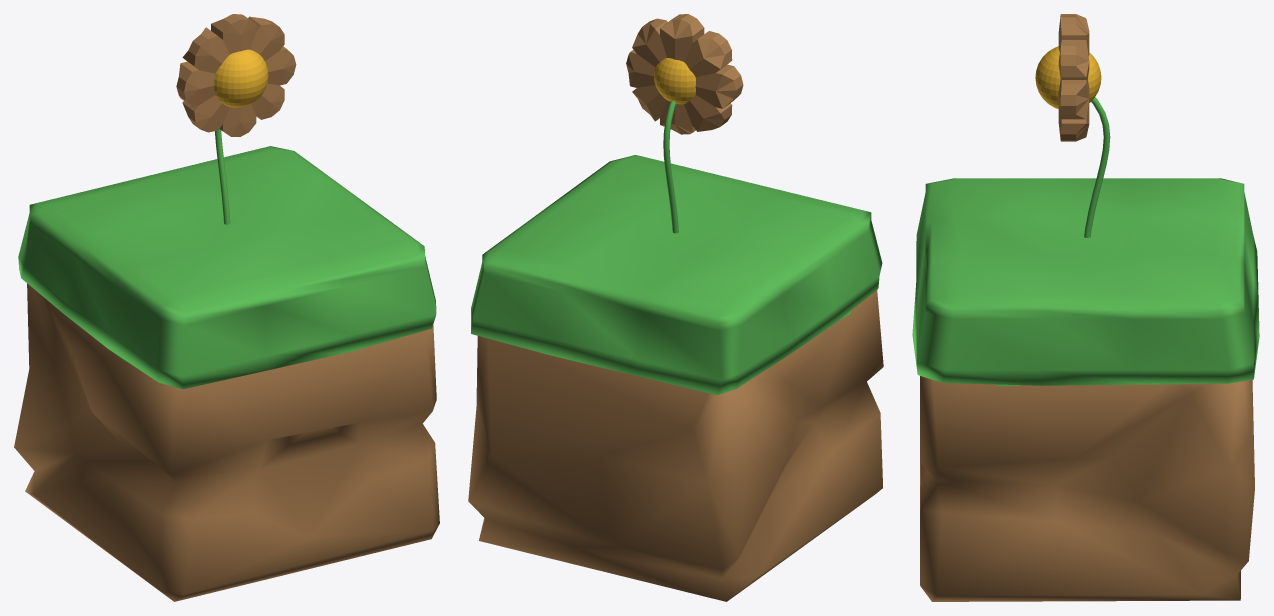
File: TileBaseVar3.fbx
3 renders of one model, left to right at view 1: azimuth 30°, elevation 25°; view 2: azimuth 150°, elevation 25°; view 3: azimuth 270°, elevation 25°, orthographic. The views are drawn at different scales.
Parts seen in each view (by area): view 1: Cube.004; view 2: Cube.004; view 3: Cube.004.
Boxes of the visible parts, x1,y1,x2,y2 form: Cube.004: (14, 14, 439, 601); Cube.004: (468, 14, 883, 601); Cube.004: (912, 14, 1259, 601).
Bounding box in the file's own units: 102 × 174 × 105.
